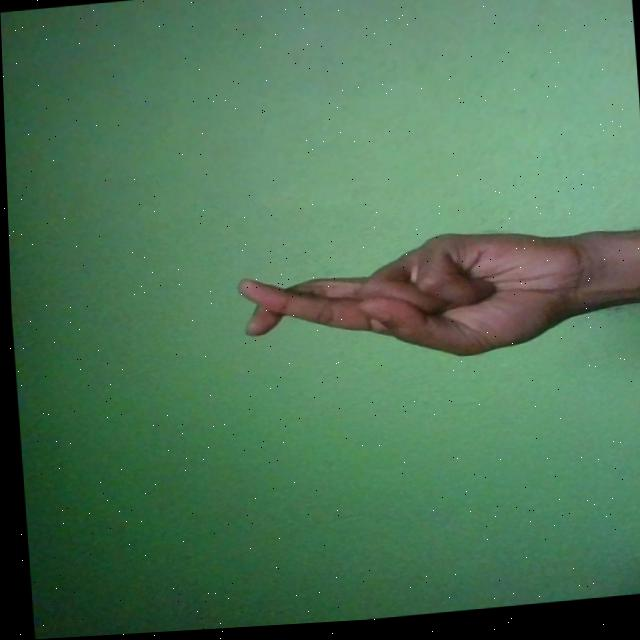Good Luck: (229, 226, 593, 379)
